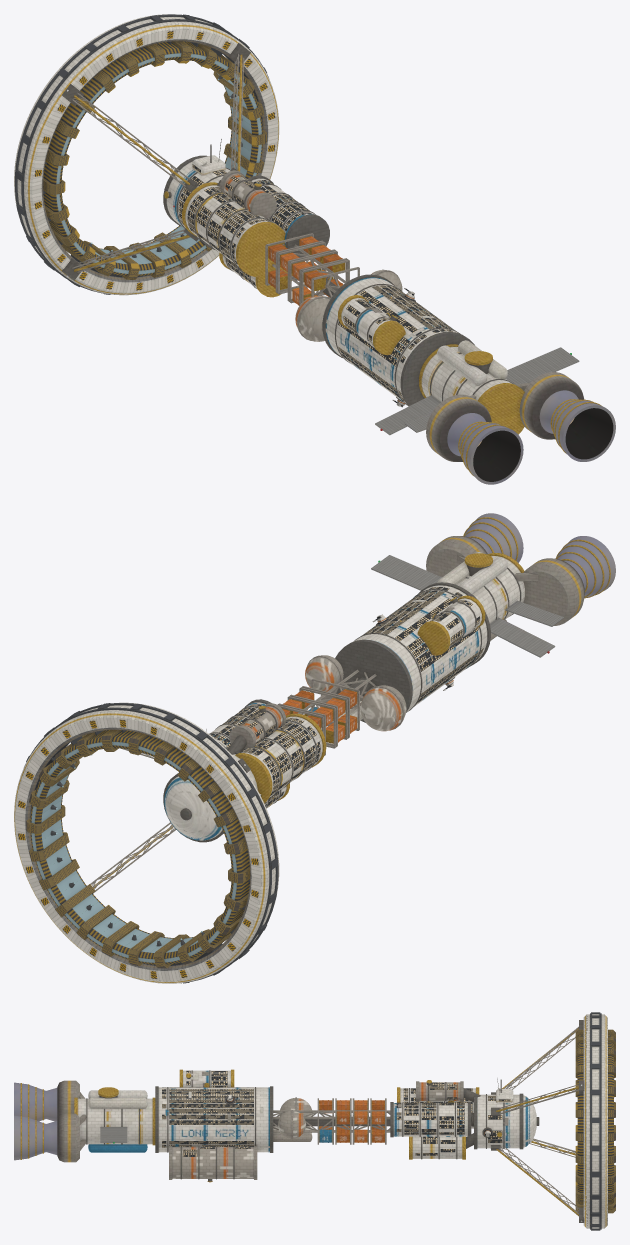
Rendered from colony.glb.
3 views of the same model, one above another, from view 1: azimuth 30°, elevation 25°; view 2: azimuth 150°, elevation 25°; view 3: azimuth 270°, elevation 25° (orthographic). The views are drawn at different scales.
Visible parts, largest first — view 1: hull, drive; view 2: hull, drive; view 3: hull, drive.
Part boxes in pixels (x1=…): hull: x1=61, y1=43, x2=615, y2=484; drive: x1=14, y1=14, x2=279, y2=295; hull: x1=90, y1=513, x2=615, y2=893; drive: x1=14, y1=702, x2=279, y2=983; hull: x1=14, y1=1020, x2=584, y2=1222; drive: x1=575, y1=1012, x2=615, y2=1230.
Bounding box in the file's own units: 323 × 323 × 892.
Materials: 6 (3 with a texture image).
